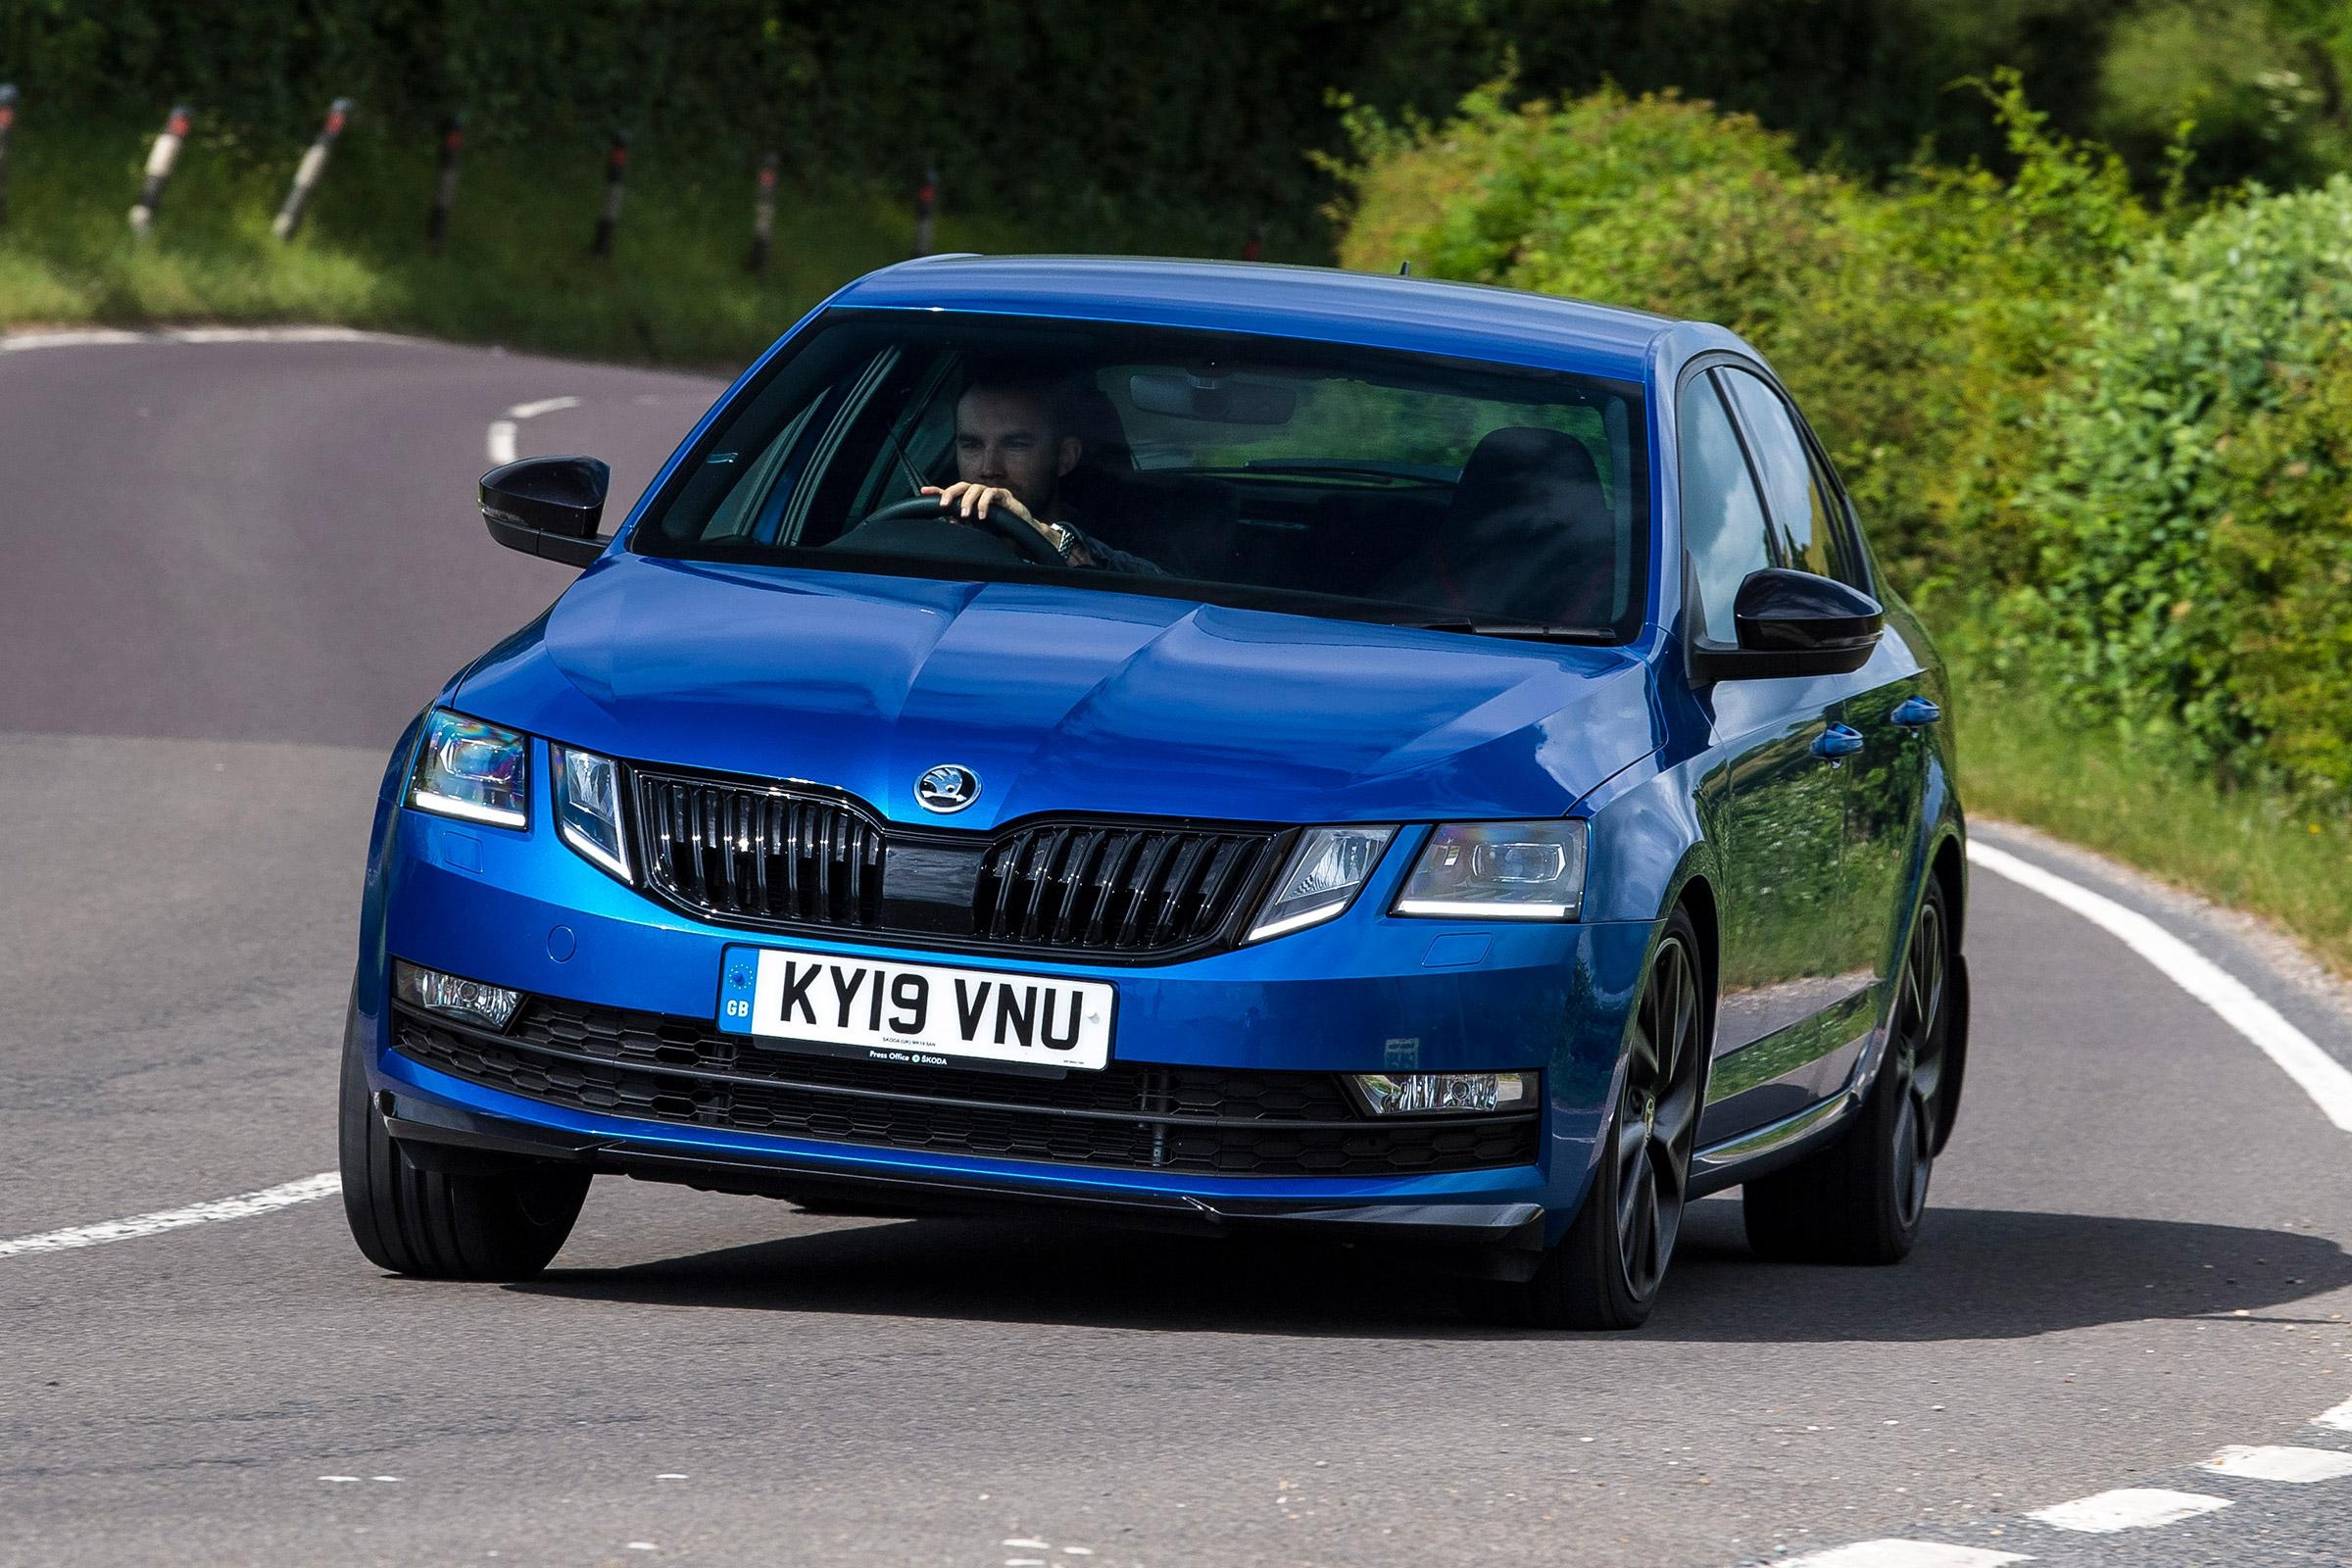number_plate: (759, 946, 1119, 1079)
